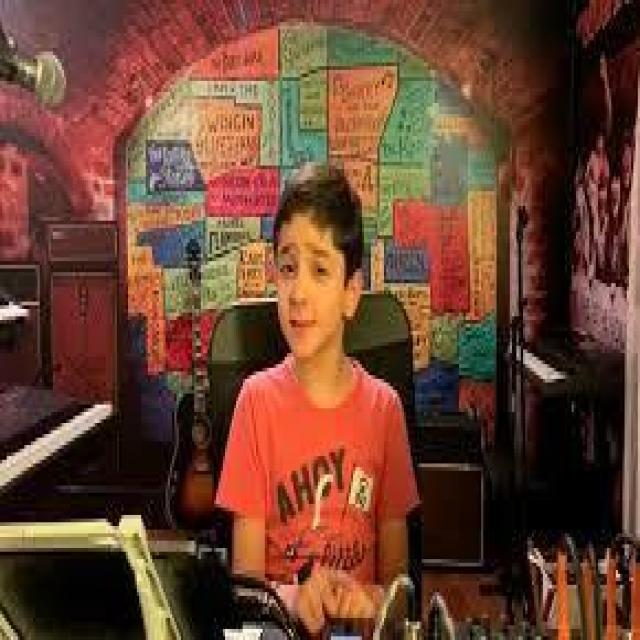person: (183, 110, 457, 633)
